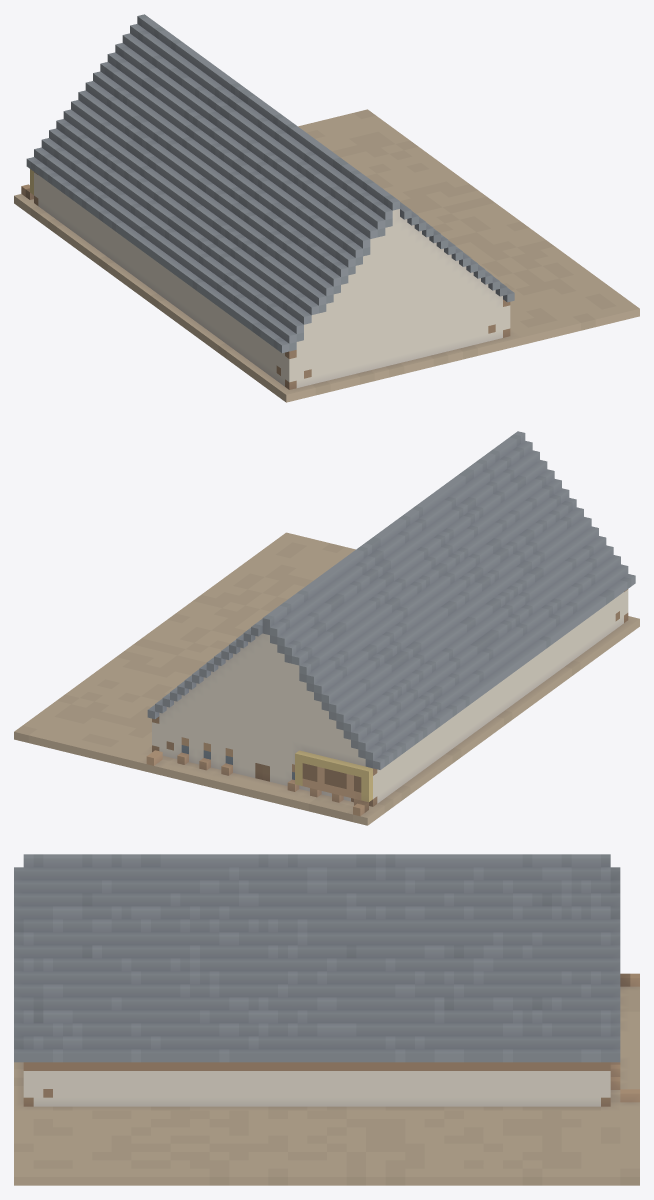
Rendered from cathedral.lite.glb.
3 renders of one model, top to bottom at view 1: azimuth 30°, elevation 25°; view 2: azimuth 150°, elevation 25°; view 3: azimuth 270°, elevation 25°, orthographic. The views are drawn at different scales.
Parts seen in each view (by area): view 1: cathedral; view 2: cathedral; view 3: cathedral.
Part boxes in pixels (left/top/right/bottom): cathedral: left=14, top=14, right=639, bottom=402; cathedral: left=14, top=431, right=639, bottom=825; cathedral: left=14, top=854, right=639, bottom=1185.
Size of the model in its own units: 12 by 5.5 by 16.
